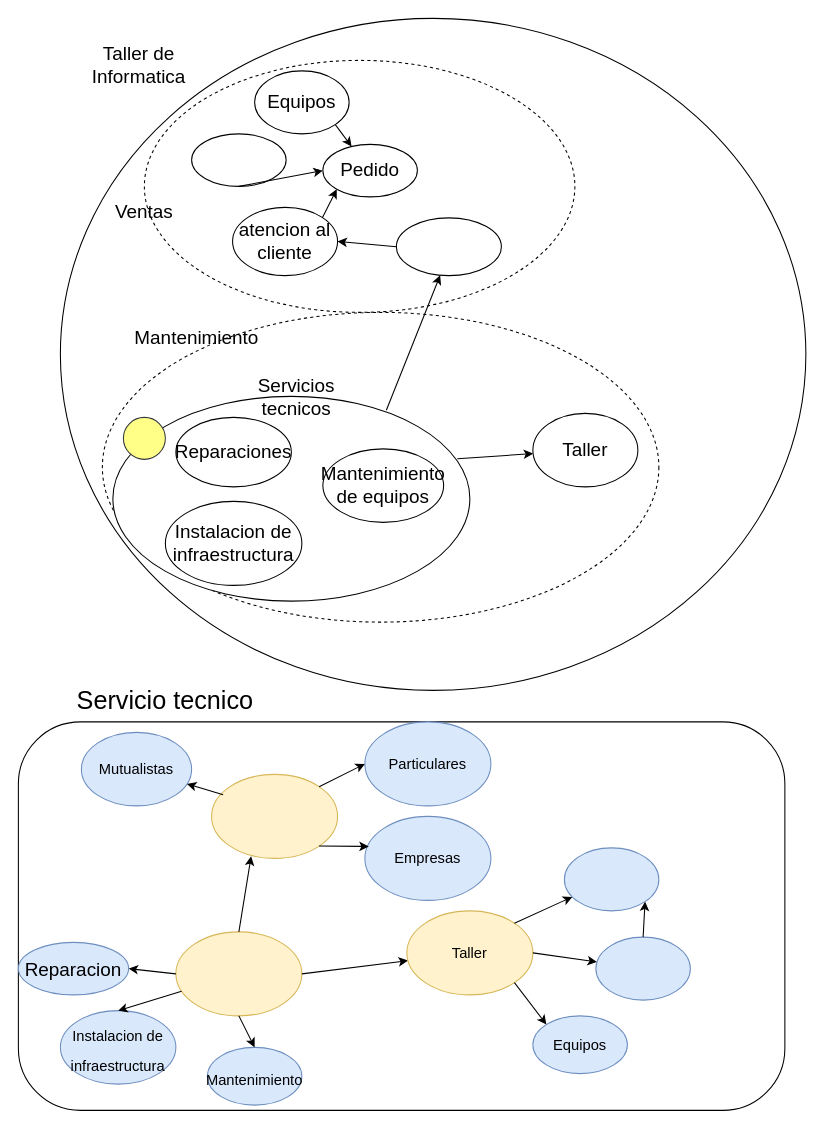
Some shapes in this 824 by 1129 pixel diagram are drawn without their labels. The centre of each missing label's shape, as x and y in pixels:
"Area" belongs at point (642, 968).
"Cliente" belongs at point (448, 246).
"Clientes" belongs at point (274, 815).
"Perifericos" belongs at point (238, 159).
"Servicios" belongs at point (238, 973).
"Tecnicos" belongs at point (611, 879).
